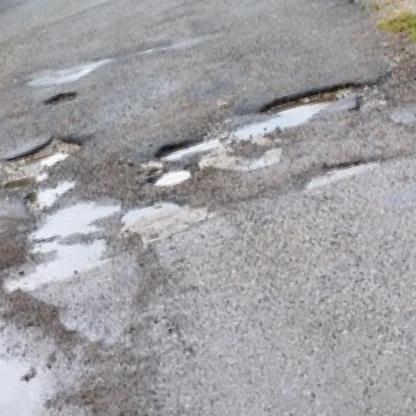pothole: (148, 73, 375, 166), (0, 127, 91, 196), (296, 149, 387, 196), (145, 159, 196, 196), (41, 85, 80, 110)
